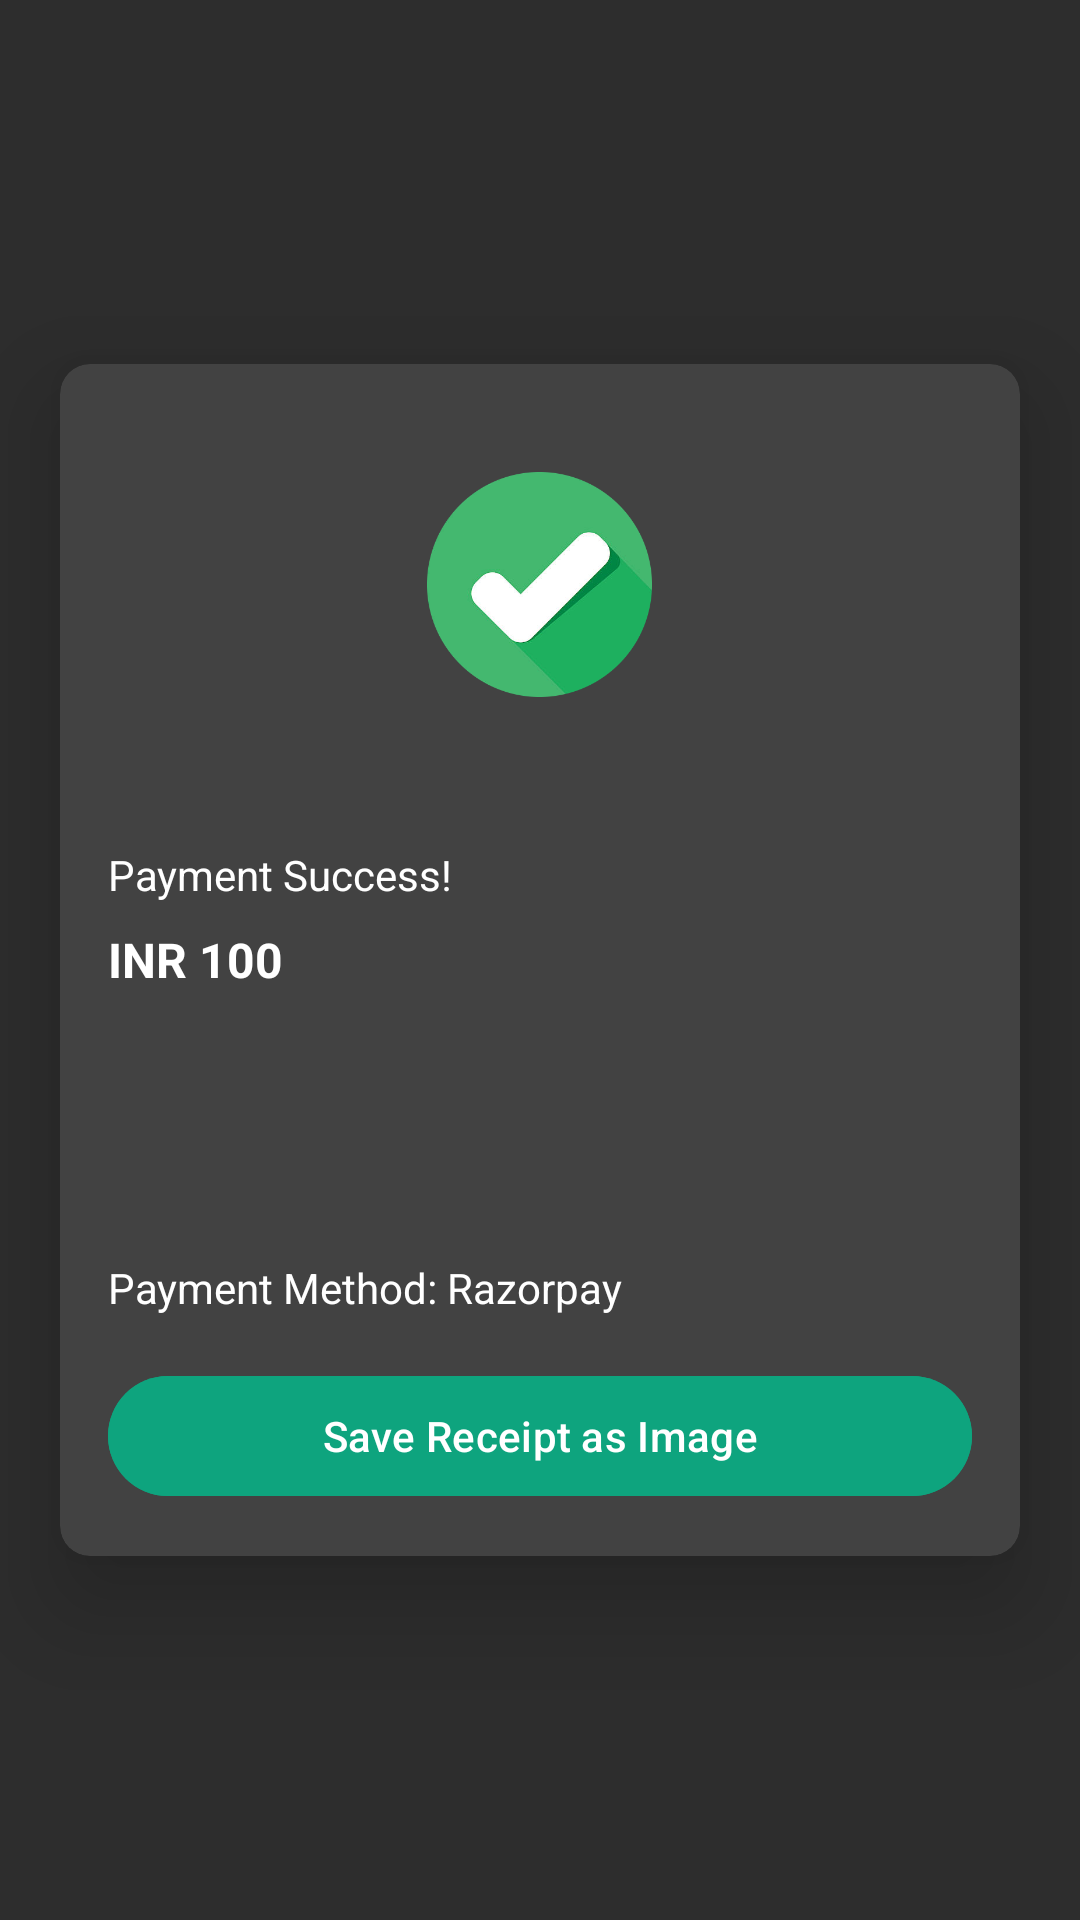

Icons on this 1080 x 1920 Android screen, each with the point to tap as [x,y]:
tick: [539,584]
